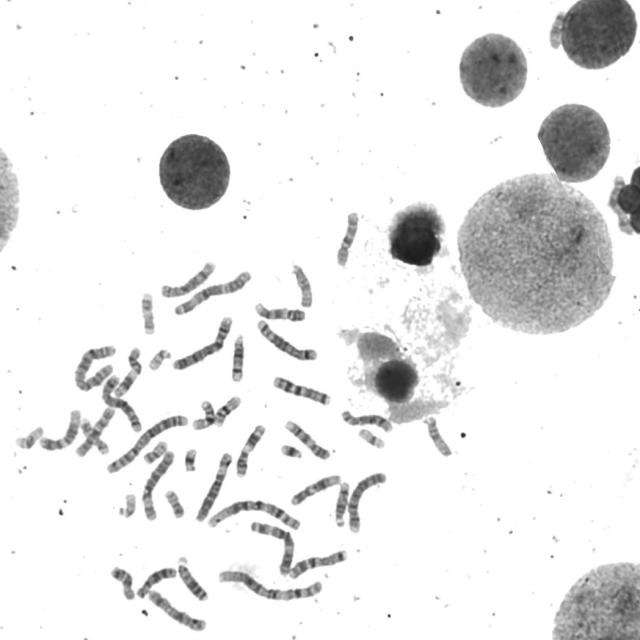A1: (215, 566, 325, 602), (205, 496, 302, 532)
A2: (103, 410, 191, 476), (72, 340, 119, 392)
A3: (170, 266, 254, 317), (248, 517, 296, 577)
B4: (169, 313, 235, 372), (345, 468, 388, 535)
B5: (253, 316, 320, 362), (99, 371, 144, 434)
C10: (73, 404, 116, 458), (333, 208, 361, 268)
C11: (232, 421, 268, 479), (111, 343, 144, 399)
C12: (37, 405, 83, 452), (288, 471, 343, 507)
C6: (193, 449, 234, 523), (139, 448, 177, 522)
C7: (269, 372, 333, 407), (286, 546, 350, 580)
C8: (158, 257, 218, 299), (338, 407, 394, 434)
C9: (282, 417, 332, 461), (252, 299, 306, 322)
D13: (174, 555, 210, 603), (134, 564, 178, 600)
D14: (228, 330, 247, 384), (332, 478, 351, 528)
D15: (422, 412, 454, 458), (287, 260, 315, 309)
E16: (212, 392, 243, 428), (189, 396, 217, 431)
E17: (78, 418, 109, 454), (138, 288, 157, 336)
E18: (107, 564, 137, 601), (545, 9, 569, 51)
F19: (12, 422, 45, 451), (356, 425, 388, 450)
F20: (161, 486, 186, 519), (140, 437, 169, 465)
G21: (181, 445, 199, 473), (278, 440, 303, 460)
G22: (146, 345, 173, 372), (116, 489, 138, 518)
X: (144, 587, 208, 633), (604, 172, 636, 239)
